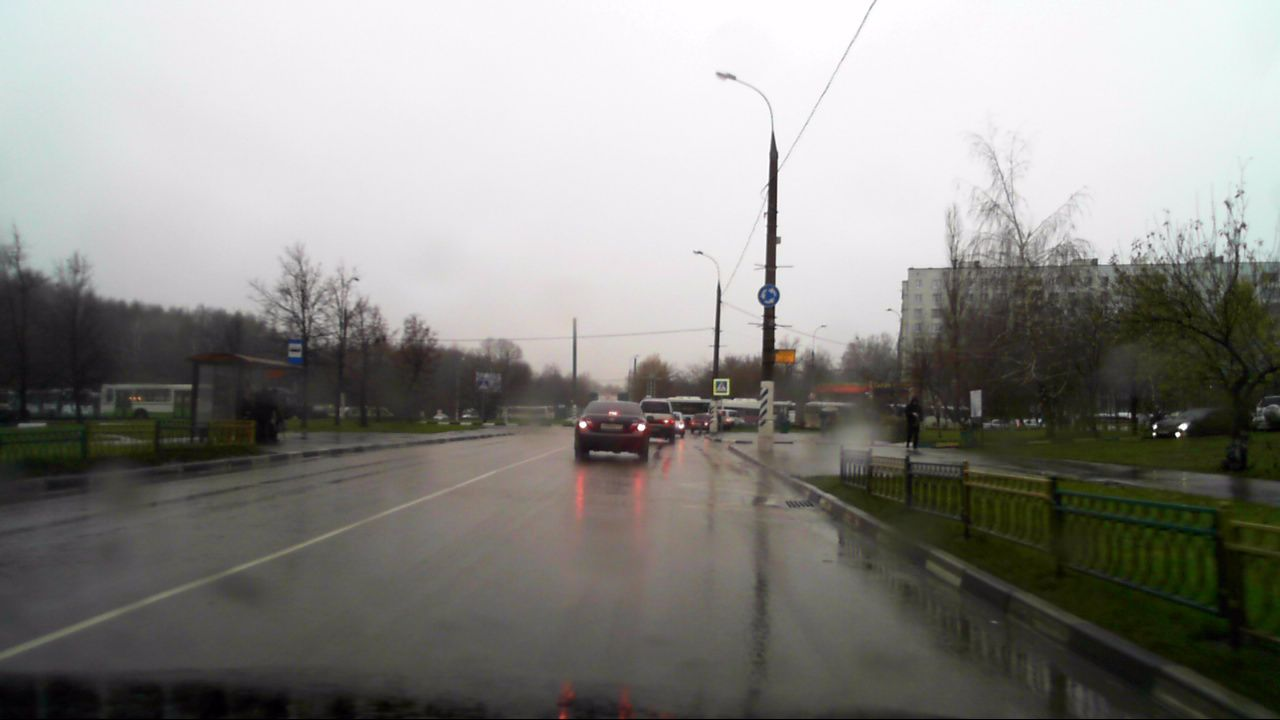Round-About: (757, 283, 780, 306)
